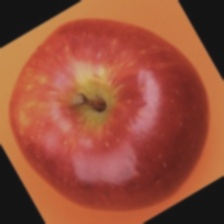apple: (27, 26, 177, 219)
